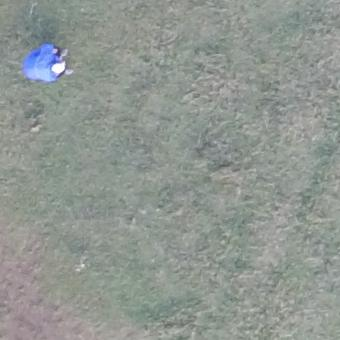human: (20, 41, 75, 84)
